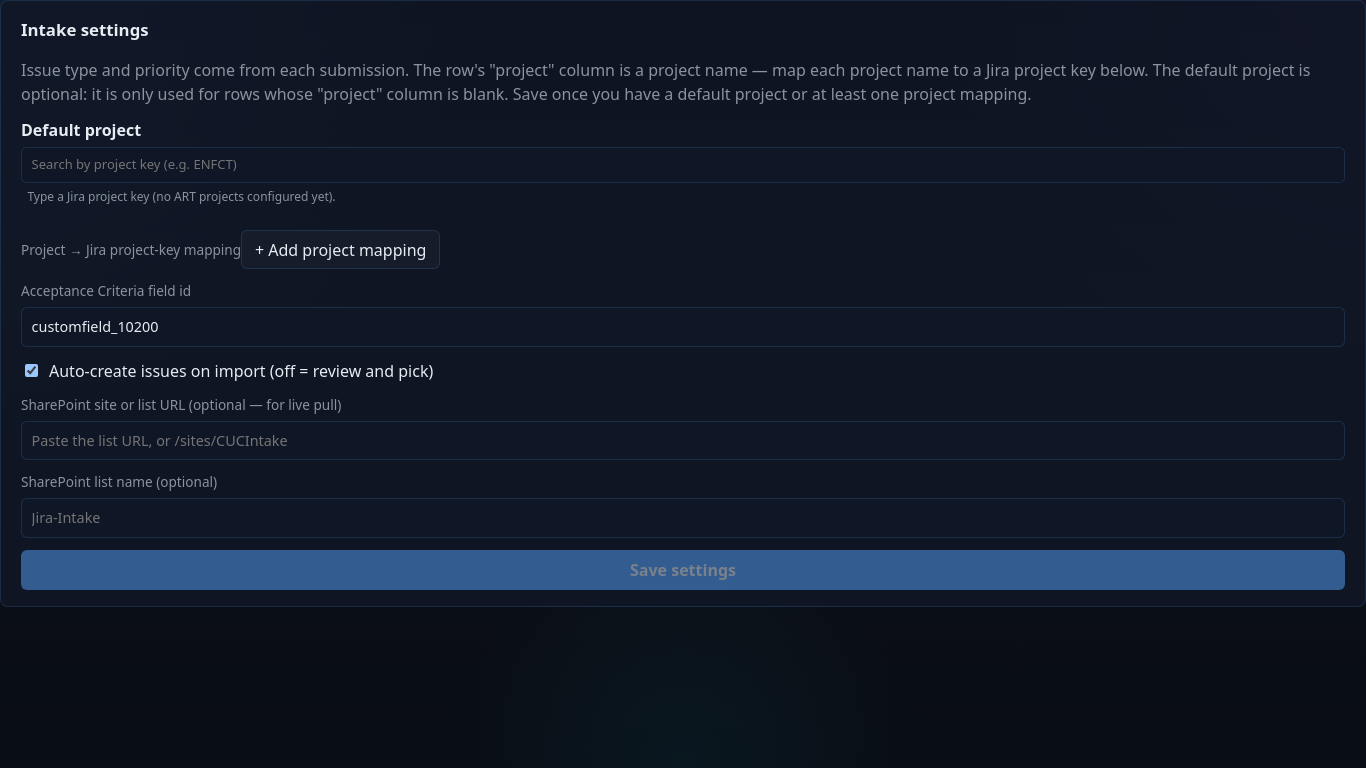
IntakeConfigPanel › enables save with only a project mapping (no default project needed)
Click the button "+ Add project mapping" at (341, 250), box 241,230 -> 440,269
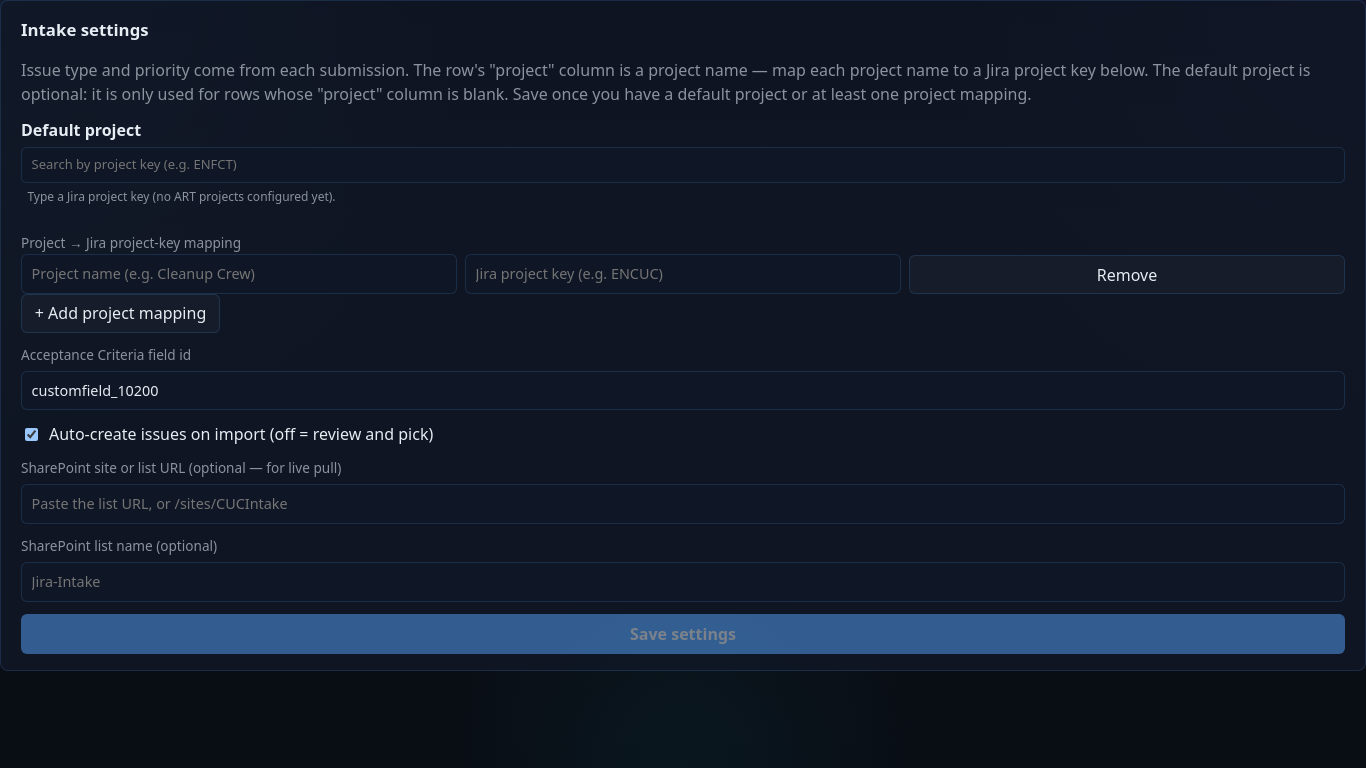
Type "Cleanup Crew" into the field named "Project name 1" at (239, 274), box 21,254 -> 457,294
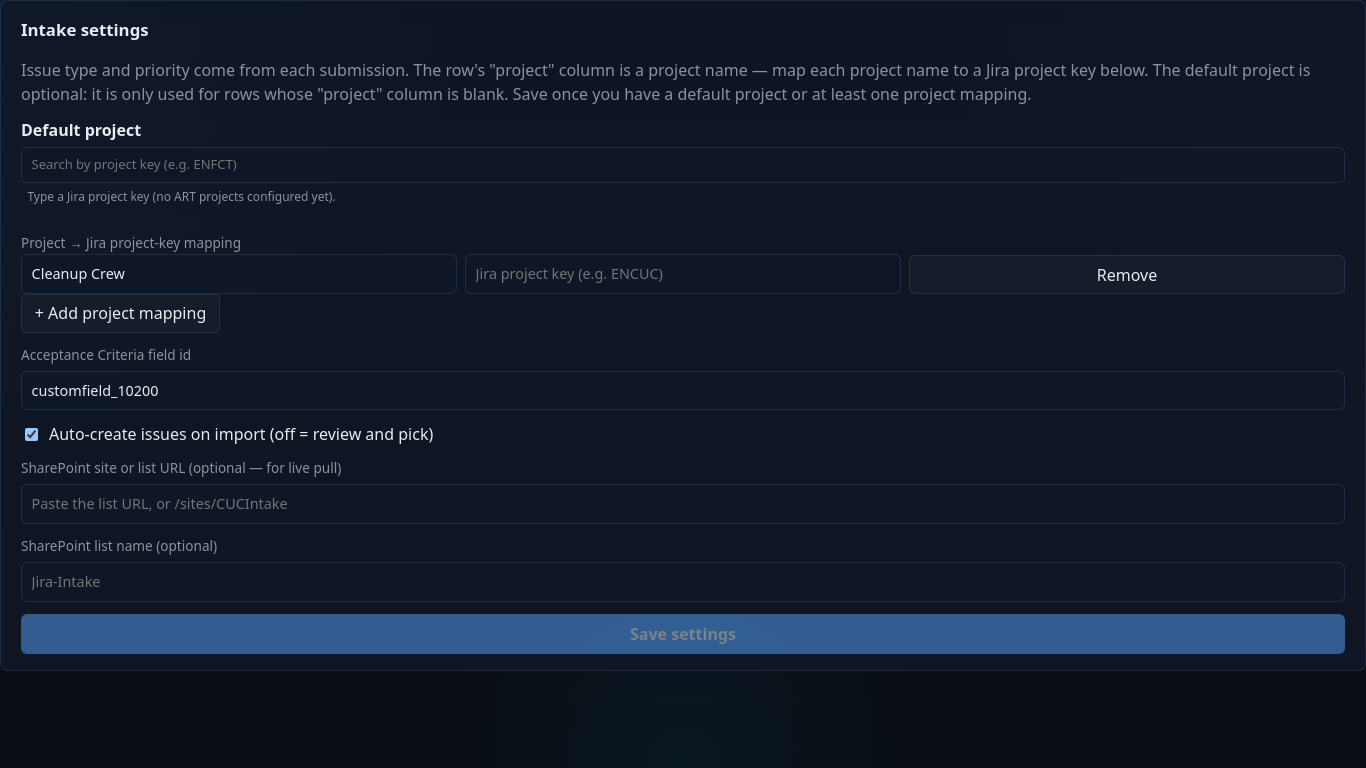
Type "ENCUC" into the field named "Jira project key 1" at (683, 274), box 465,254 -> 901,294
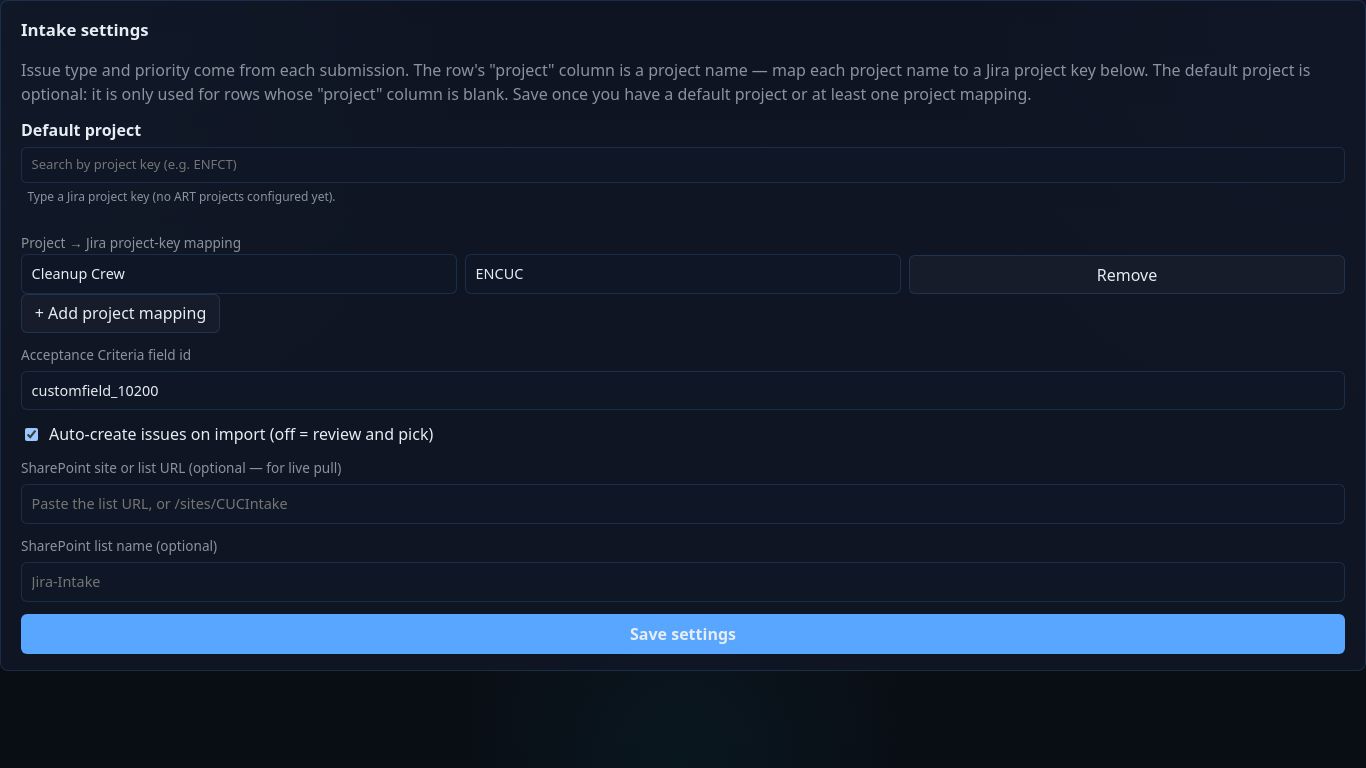
Expected: the button "Save settings" is enabled, 21,614 -> 1345,654
